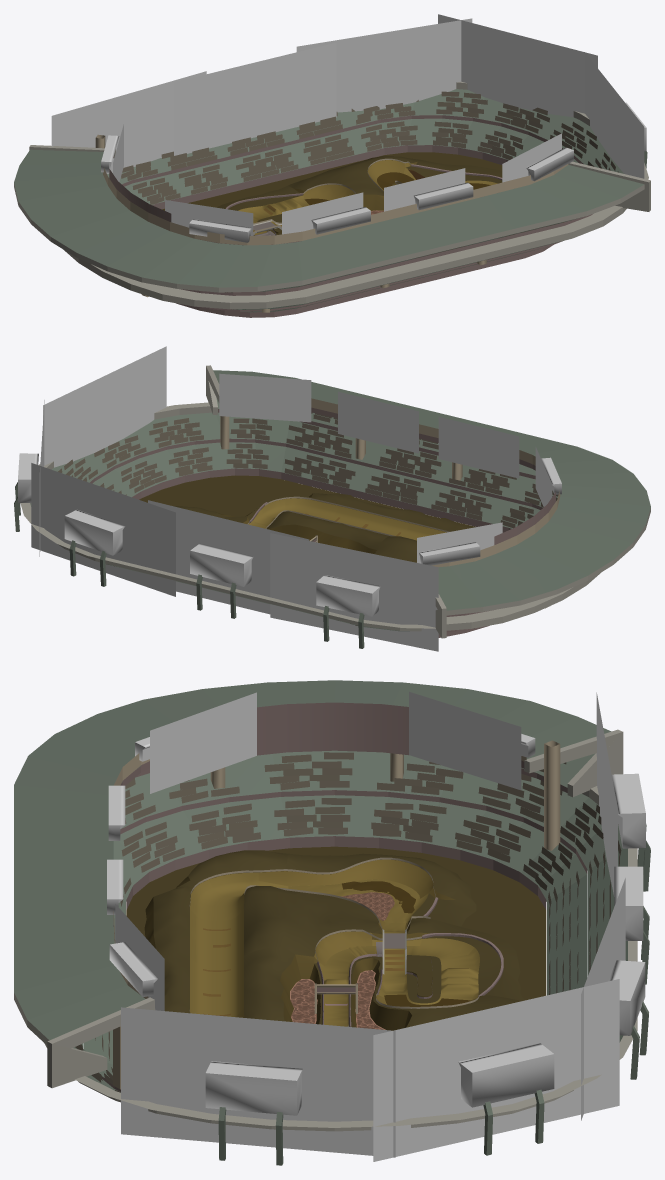
The model's file is Waluigi+Stadium.fbx.
The picture shows the model from 3 angles, top to bottom: view 1: azimuth 30°, elevation 25°; view 2: azimuth 150°, elevation 25°; view 3: azimuth 270°, elevation 25°; orthographic projection. The views are drawn at different scales.
Parts seen in each view (by area): view 1: default_object; view 2: default_object; view 3: default_object.
Boxes of the visible parts, x1,y1,x2,y2 form: default_object: (14,14,650,317); default_object: (14,346,650,651); default_object: (14,680,650,1165).
Size of the model in its own units: 3282437 by 616950 by 2148752.
